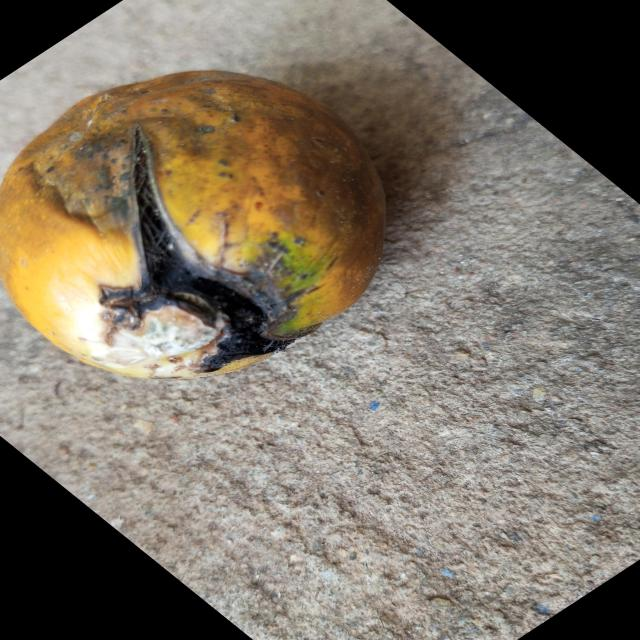damaged: (0, 71, 385, 379)
